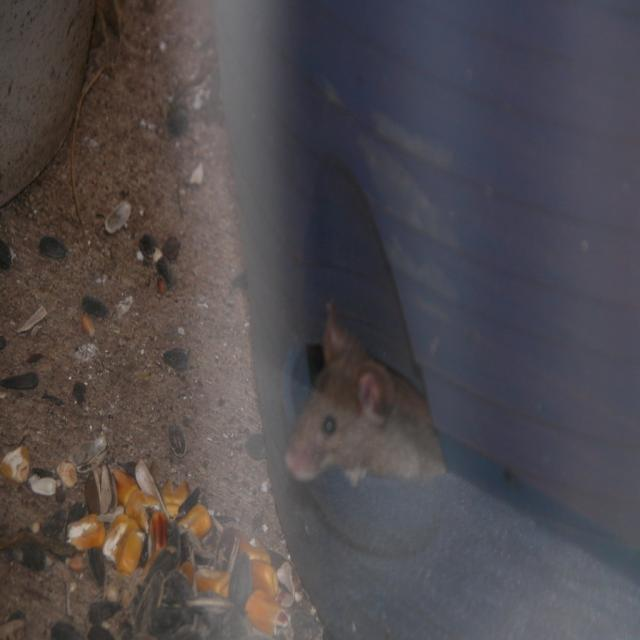rat: (284, 307, 443, 490)
